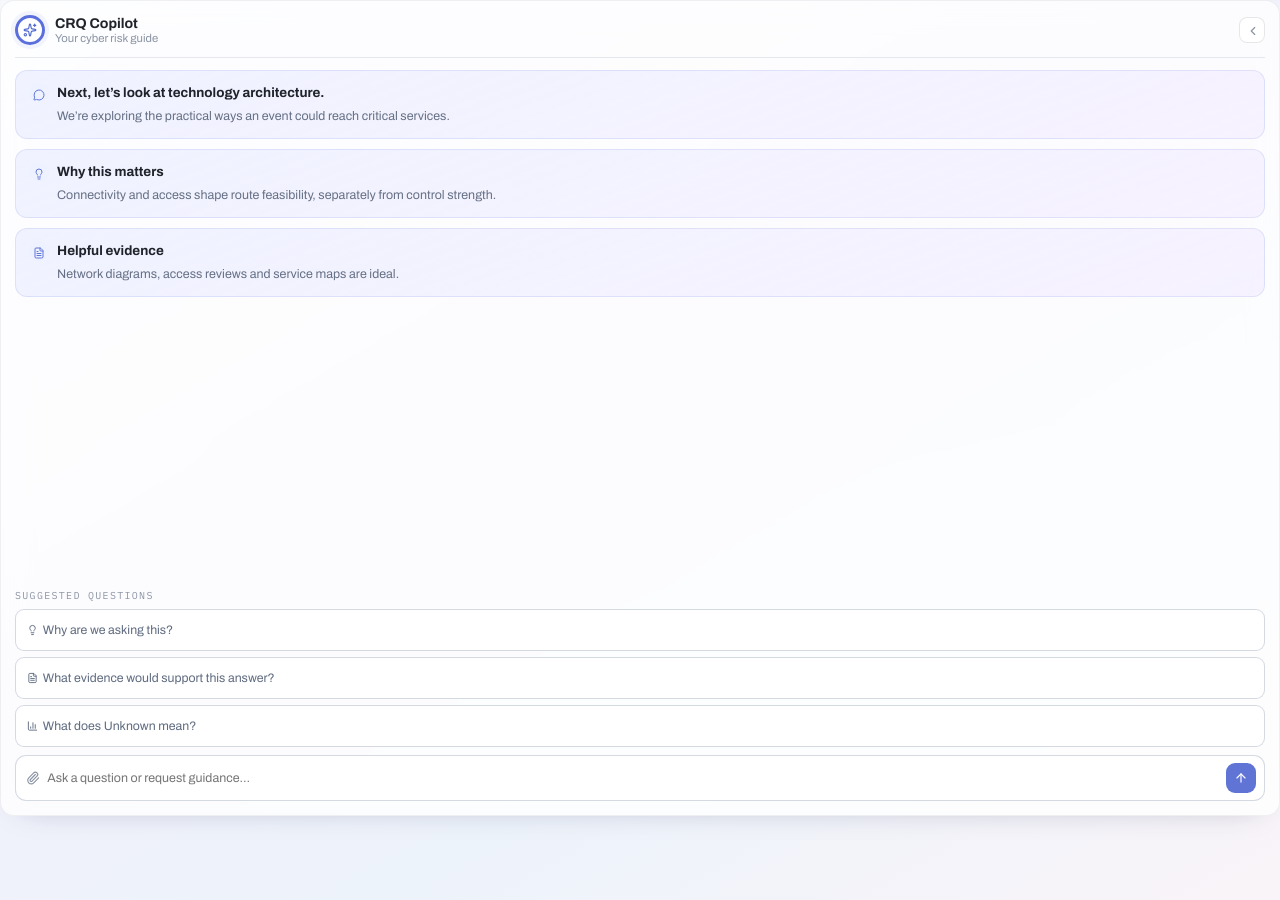
Scenario: view-specific CRQ Copilot › submits a suggested assessment question with automatic view context
Click the button "Why are we asking this?": (108, 630) x1=15 y1=609 x2=1265 y2=651
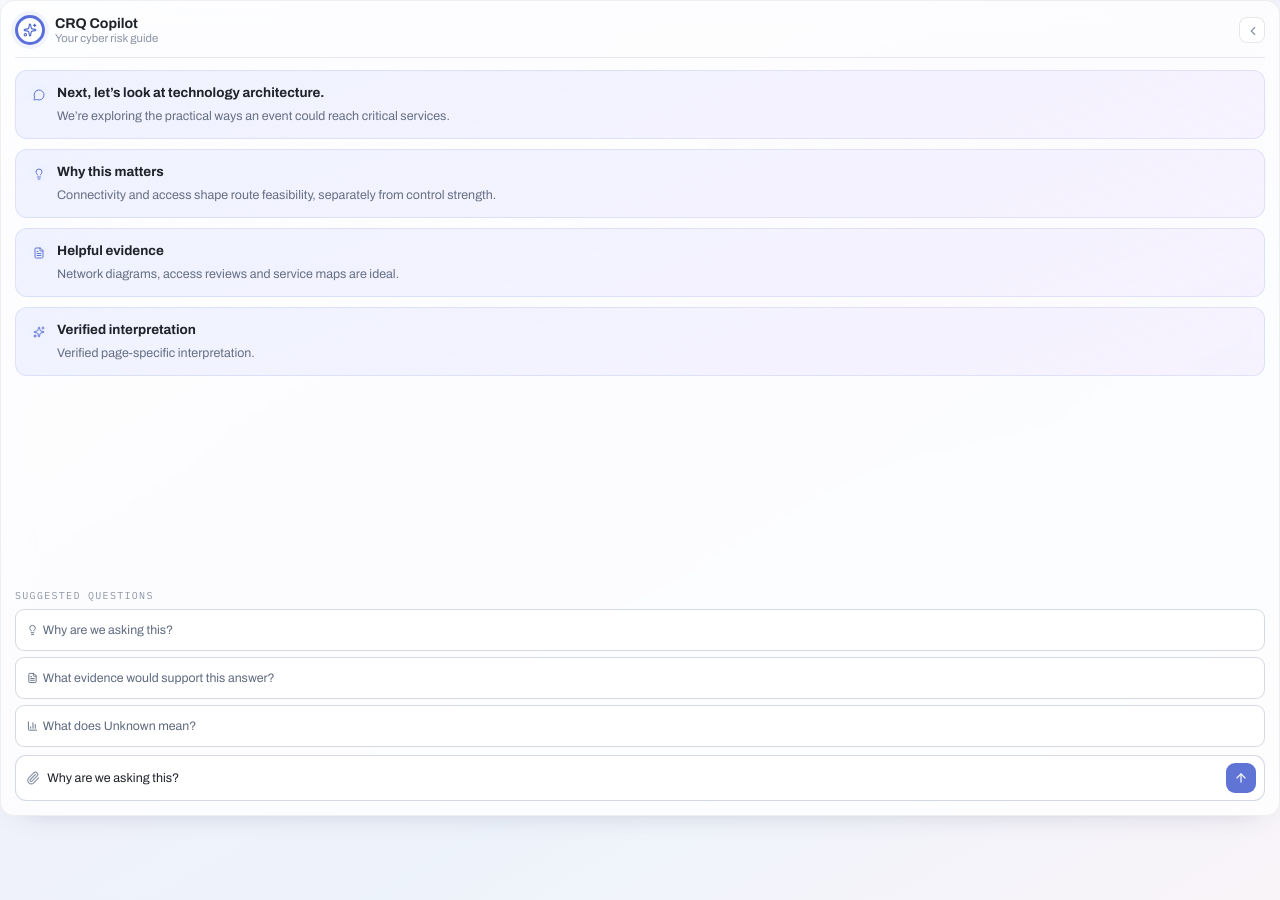
Now the text "Verified page-specific interpretation." is shown, box x1=57 y1=346 x2=255 y2=360
